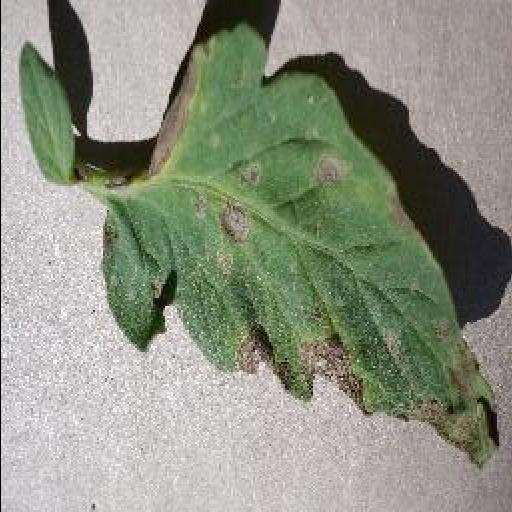disease_tomato: (98, 23, 500, 471)
